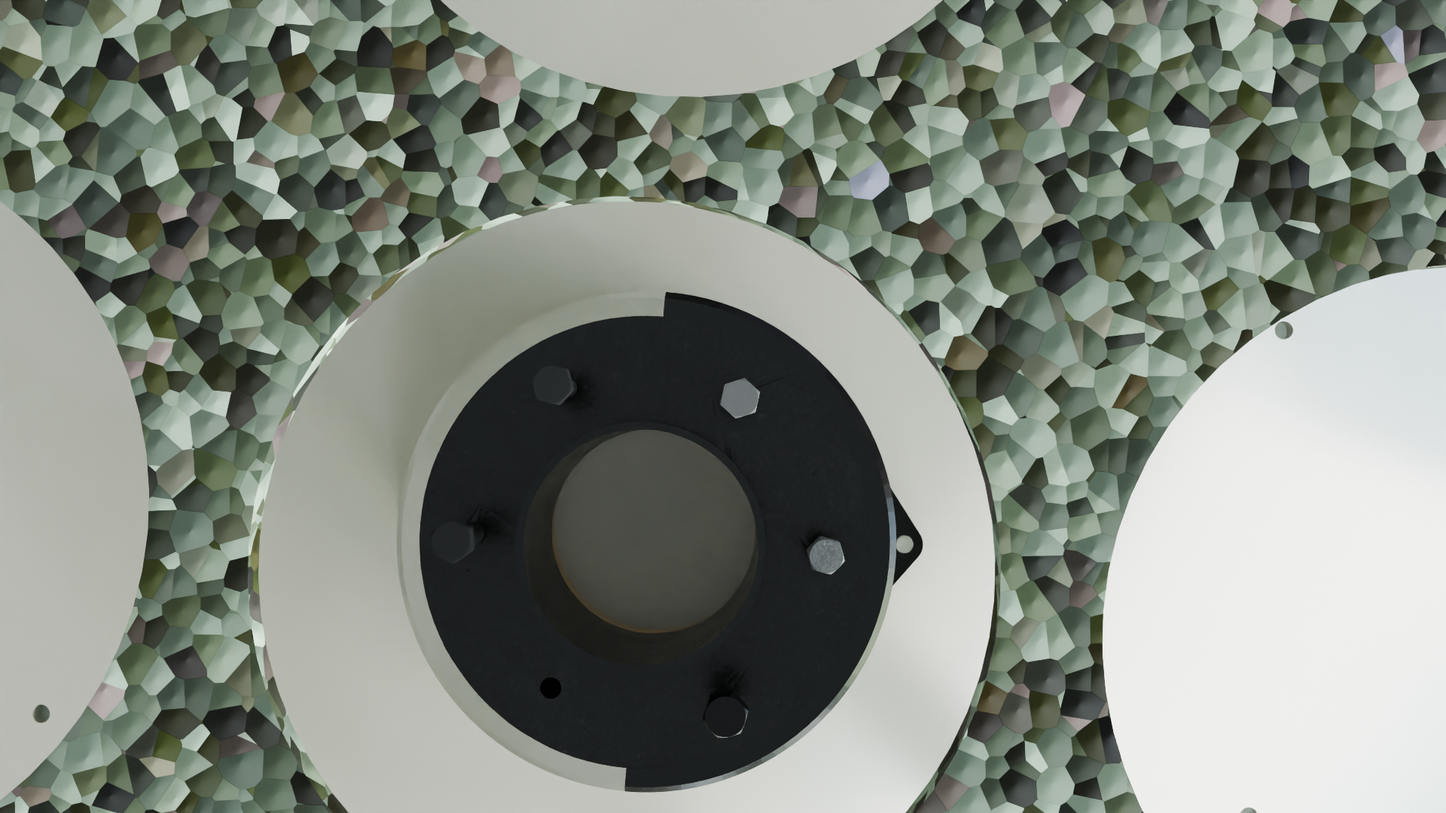bolt: (703, 693, 749, 738), (431, 519, 471, 564), (531, 364, 572, 405), (720, 378, 760, 419), (807, 537, 845, 574)
